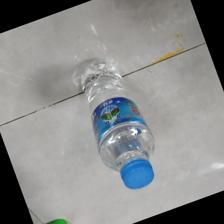Lavie: (79, 58, 156, 191)
